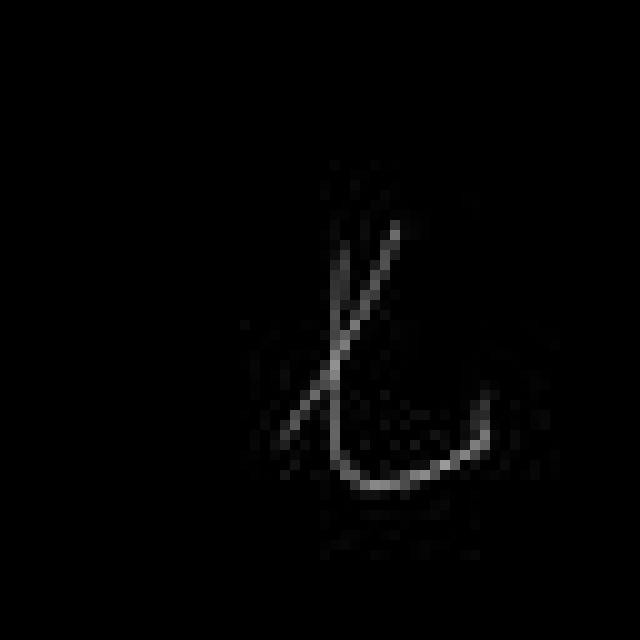7 -seven-: (262, 220, 496, 492)
